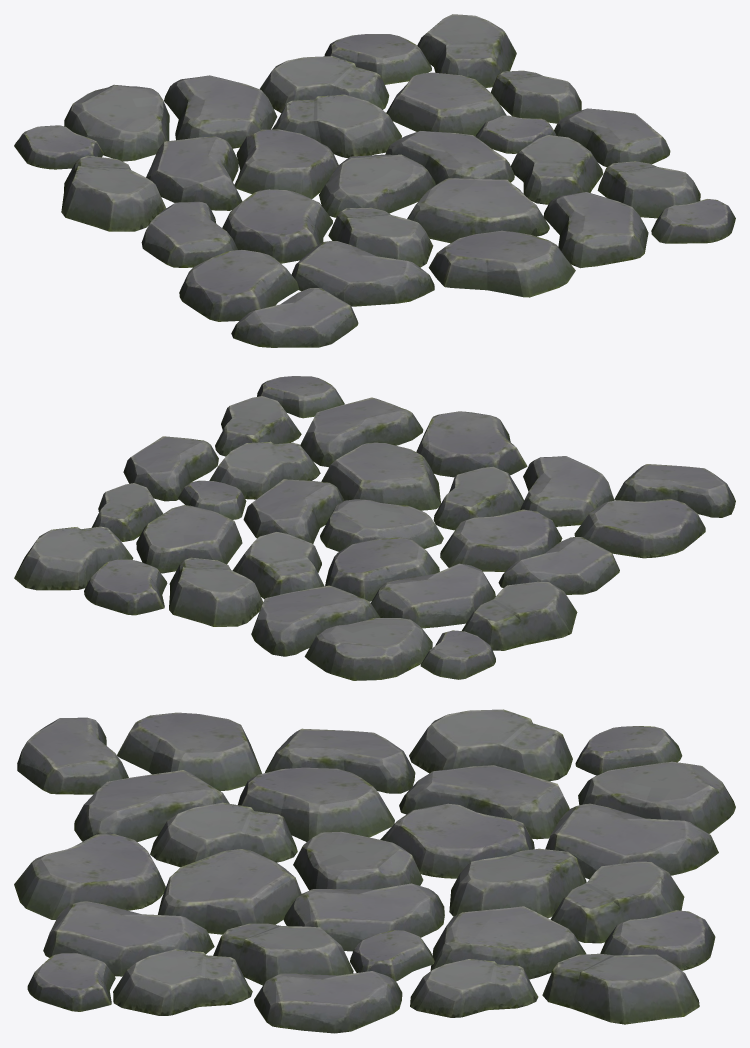
The model's file is RockPath_Round_Wide.gltf.
3 renders of one model, top to bottom at view 1: azimuth 30°, elevation 25°; view 2: azimuth 150°, elevation 25°; view 3: azimuth 270°, elevation 25°, orthographic. The views are drawn at different scales.
Parts seen in each view (by area): view 1: RockPath_Round_Wide; view 2: RockPath_Round_Wide; view 3: RockPath_Round_Wide.
Part boxes in pixels (x1,y1,x2,y2): RockPath_Round_Wide: [14, 14, 735, 347]; RockPath_Round_Wide: [14, 376, 735, 680]; RockPath_Round_Wide: [14, 709, 735, 1033].
Size of the model in its own units: 2.11 by 0.1128 by 2.13.
1 material, 1 textured.
